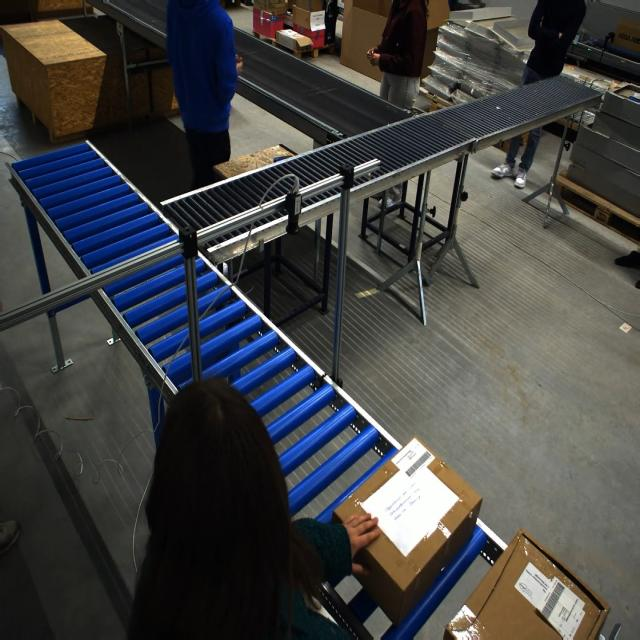box: (346, 438, 480, 621), (442, 527, 609, 640)
